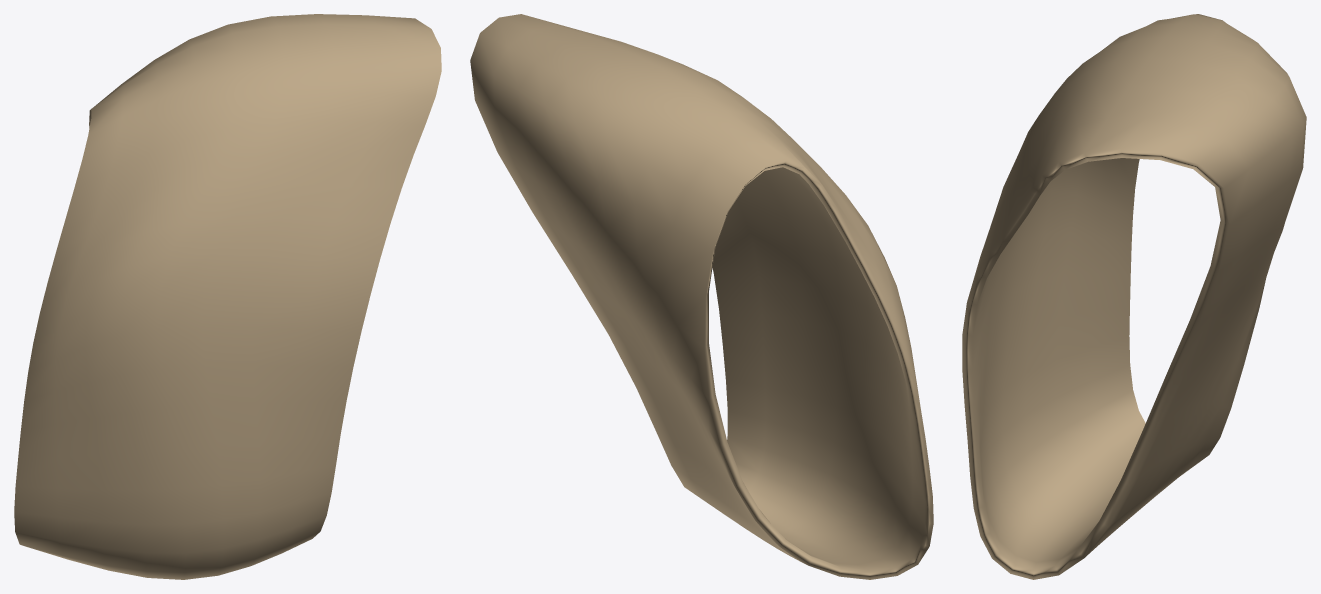
3 views of the same model, side by side, from view 1: azimuth 30°, elevation 25°; view 2: azimuth 150°, elevation 25°; view 3: azimuth 270°, elevation 25° (orthographic). The views are drawn at different scales.
Parts seen in each view (by area): view 1: 右侧肩锁关节囊; view 2: 右侧肩锁关节囊; view 3: 右侧肩锁关节囊.
Part boxes in pixels (x1,y1,x2,y2): 右侧肩锁关节囊: [14, 14, 441, 579]; 右侧肩锁关节囊: [470, 14, 933, 579]; 右侧肩锁关节囊: [962, 14, 1306, 579].
Size of the model in its own units: 0.0398 by 0.043 by 0.0238.
